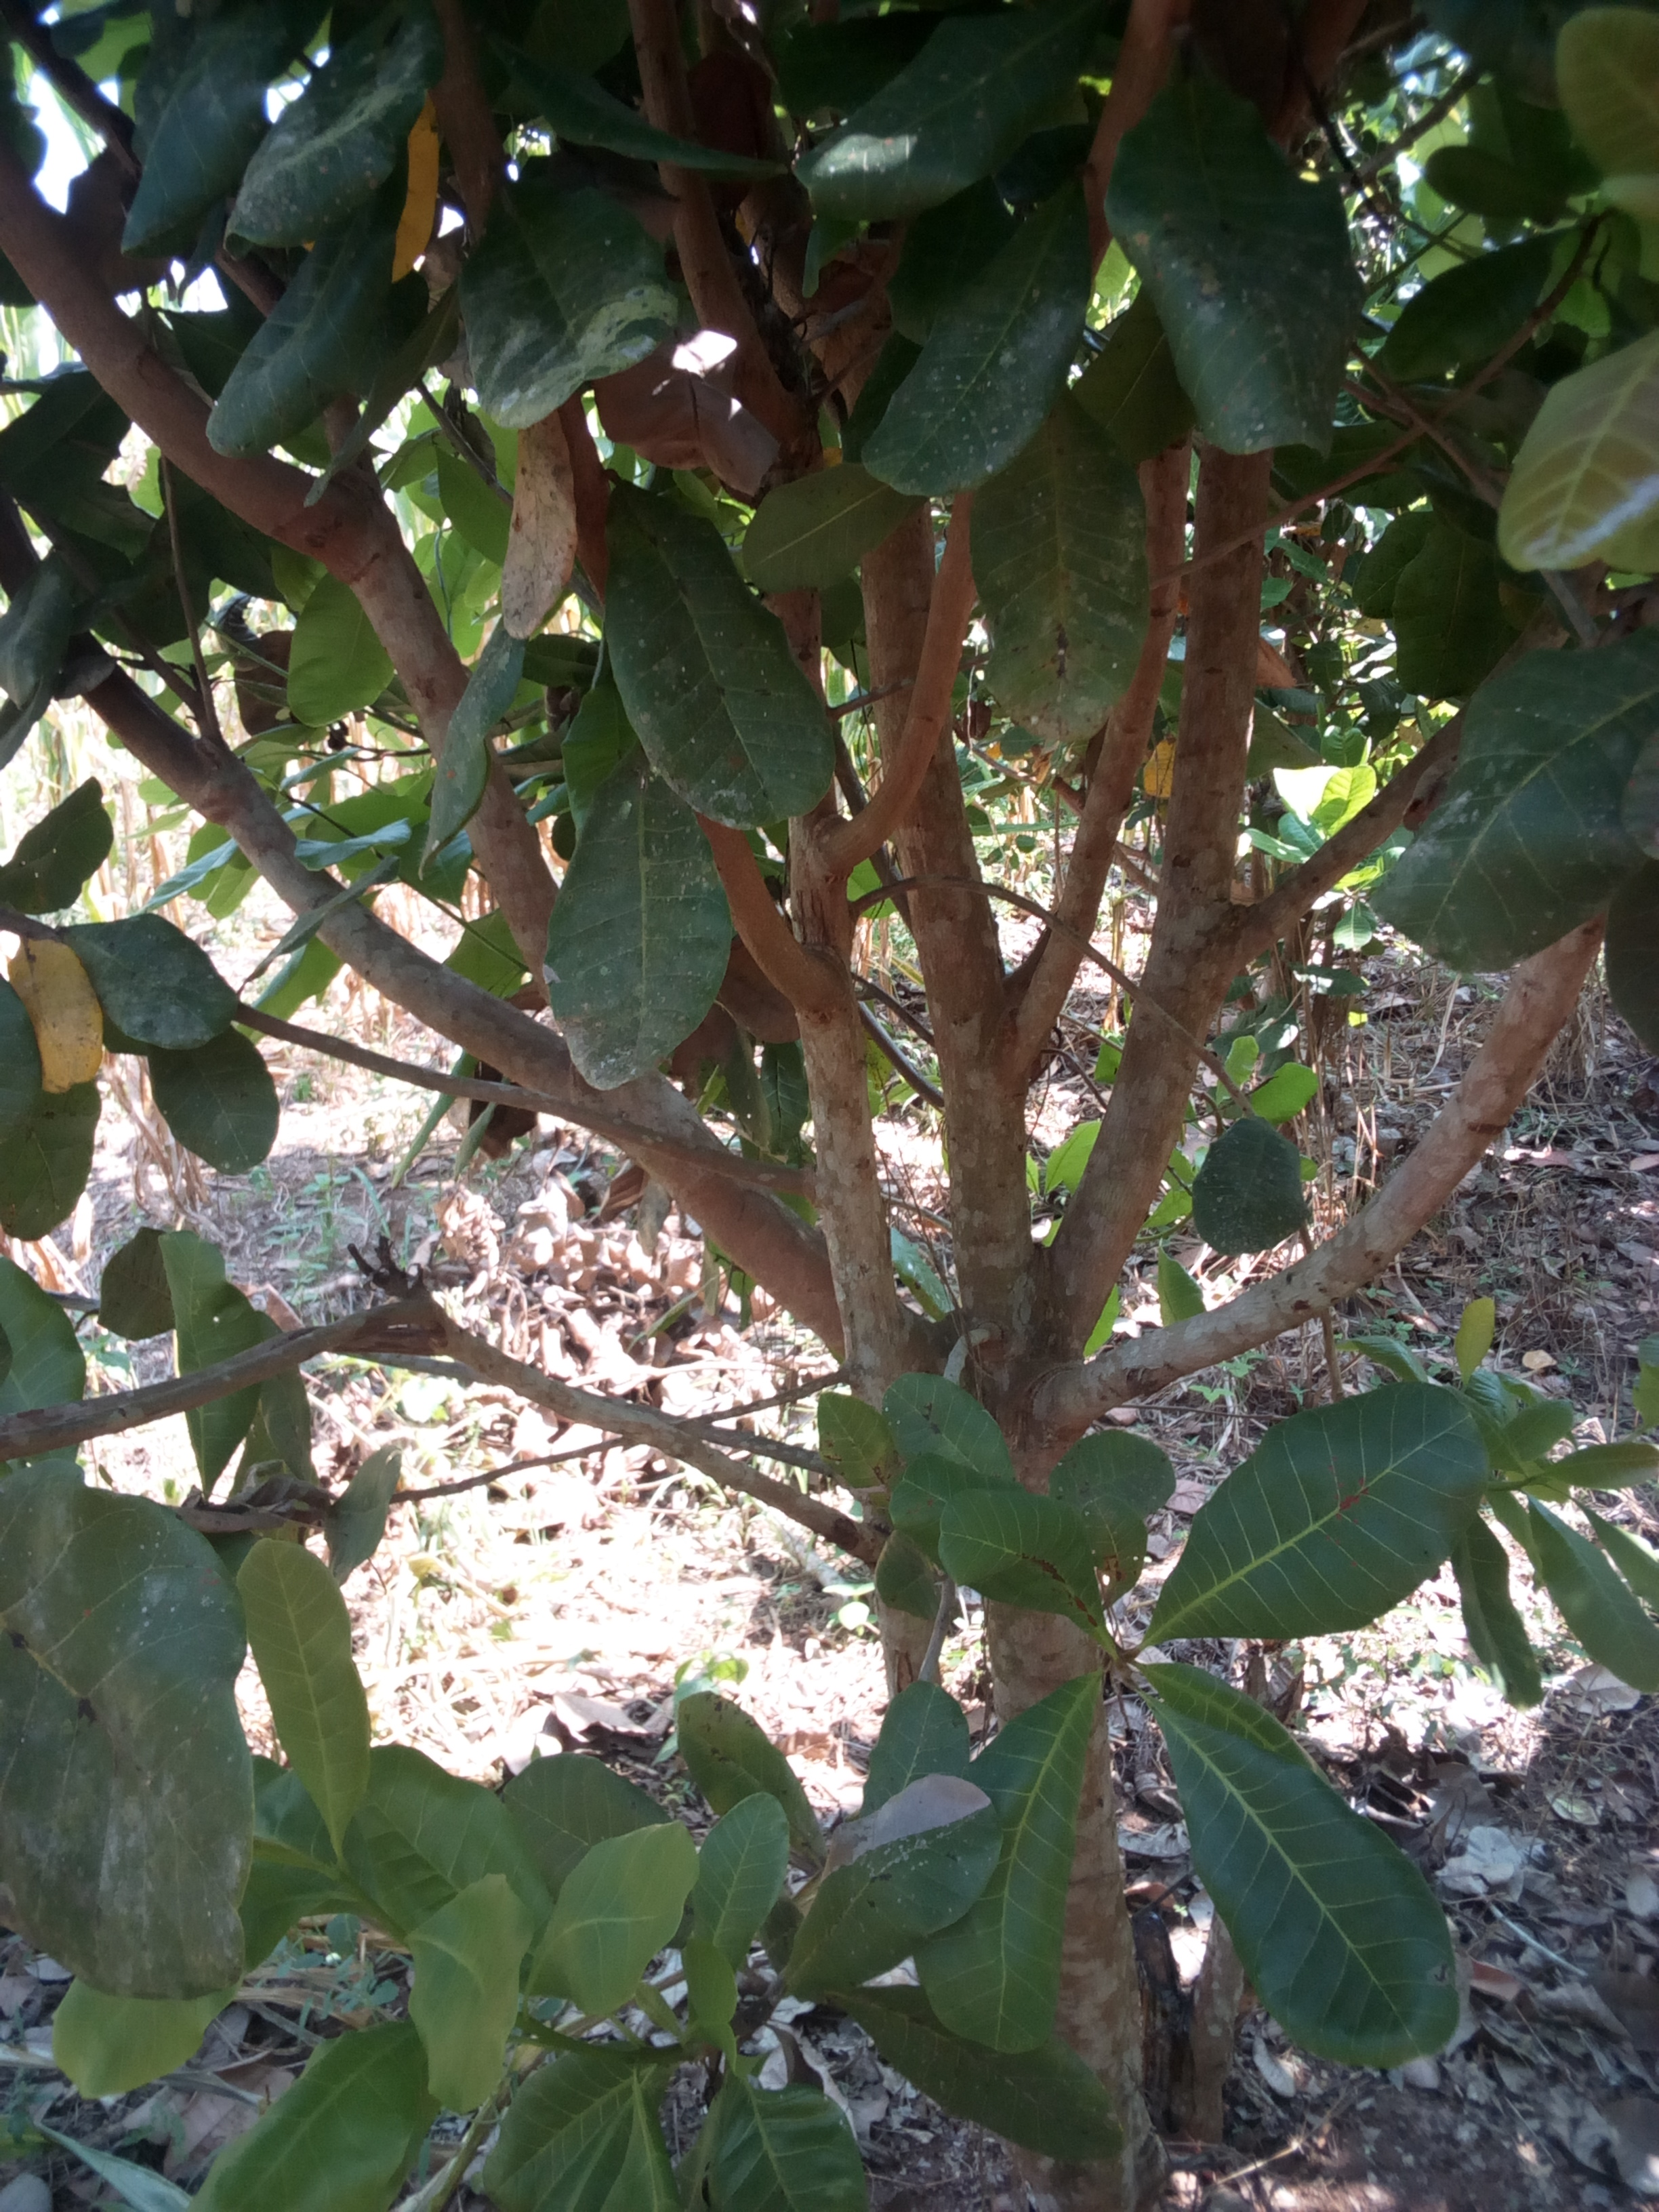Bactériose: (988, 580, 1152, 744)
